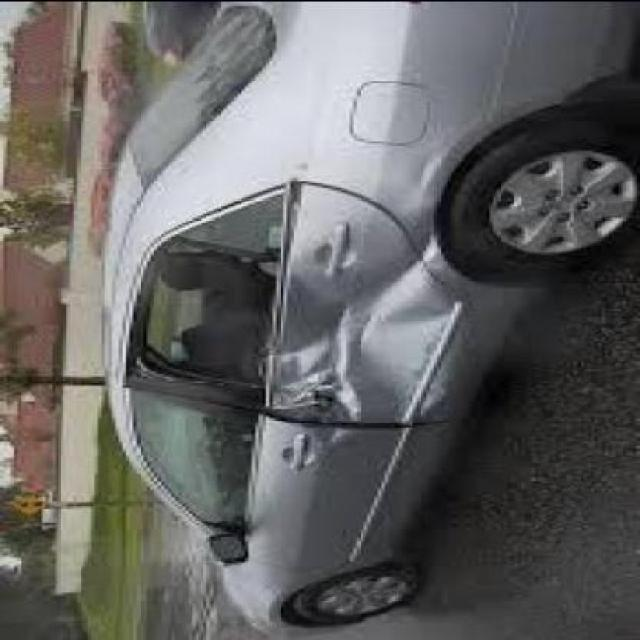damage: (115, 149, 482, 430)
